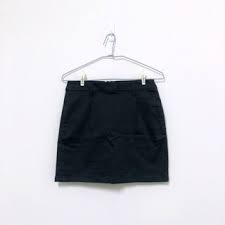F_tailored skirt: (48, 71, 175, 188)
